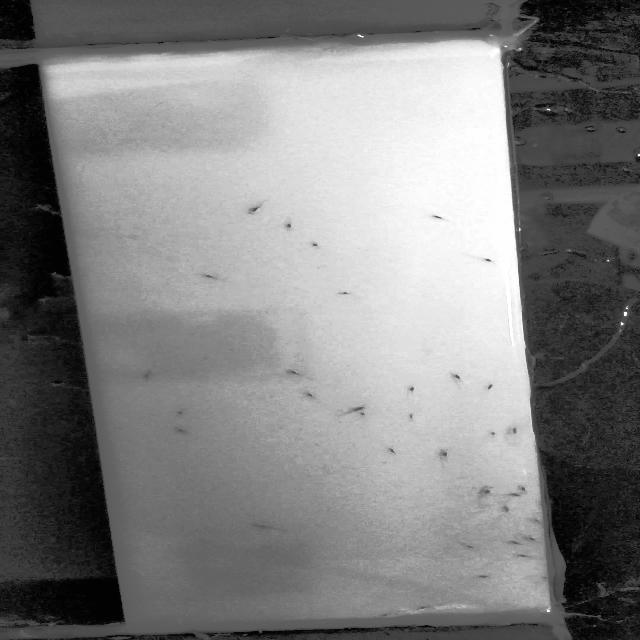shrimp: (248, 518, 282, 537), (278, 367, 308, 383), (423, 211, 456, 225), (432, 444, 457, 462), (463, 486, 500, 498), (275, 218, 304, 233), (446, 371, 474, 386), (131, 371, 172, 381), (240, 203, 268, 217), (481, 381, 506, 396), (381, 441, 406, 454), (478, 253, 501, 267), (472, 571, 498, 583), (508, 423, 528, 438), (502, 537, 524, 550), (411, 602, 437, 613), (331, 288, 359, 298), (343, 404, 368, 415), (305, 241, 327, 253), (517, 484, 539, 496), (402, 383, 421, 395), (299, 389, 319, 400), (171, 408, 192, 418), (512, 554, 538, 562), (199, 273, 228, 280), (174, 425, 194, 435), (524, 533, 543, 542), (500, 503, 518, 512)
